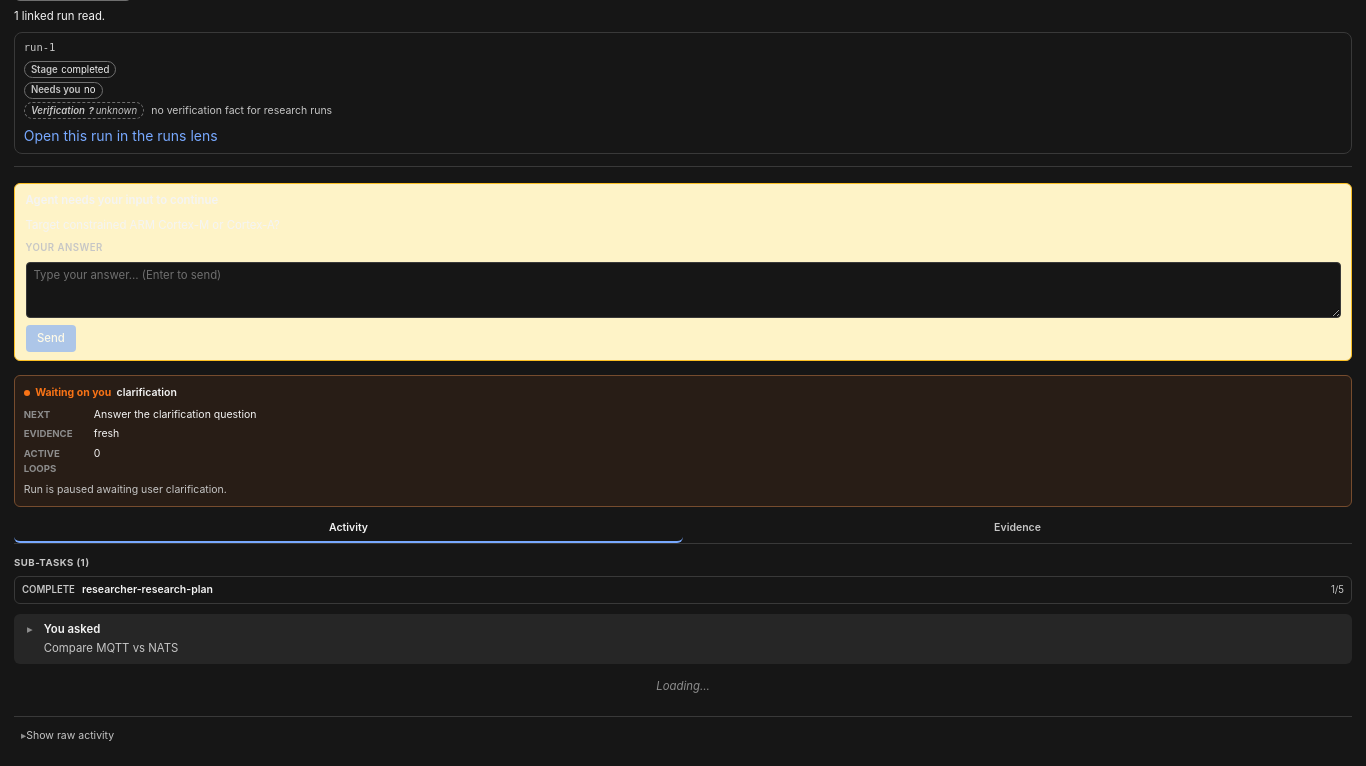
Test case: WorkItemOverview inline run workbench › surfaces live RunHealthPanel, RunWaitingSection, sub-tasks, and focus breadcrumb from taskStore
This screenshot has width=1366, height=766.
(page scrolled)
Check: the element with test id "run-health-panel" shows "Waiting on you", box [35,386,111,399]
Check: the text "Target constrained ARM Cortex-M or Cortex-A?" is shown, box [26,218,280,232]
Click the button with test id "work-inline-child-item". click: click(48, 589)
box: [14,576,1352,604]
(page scrolled)
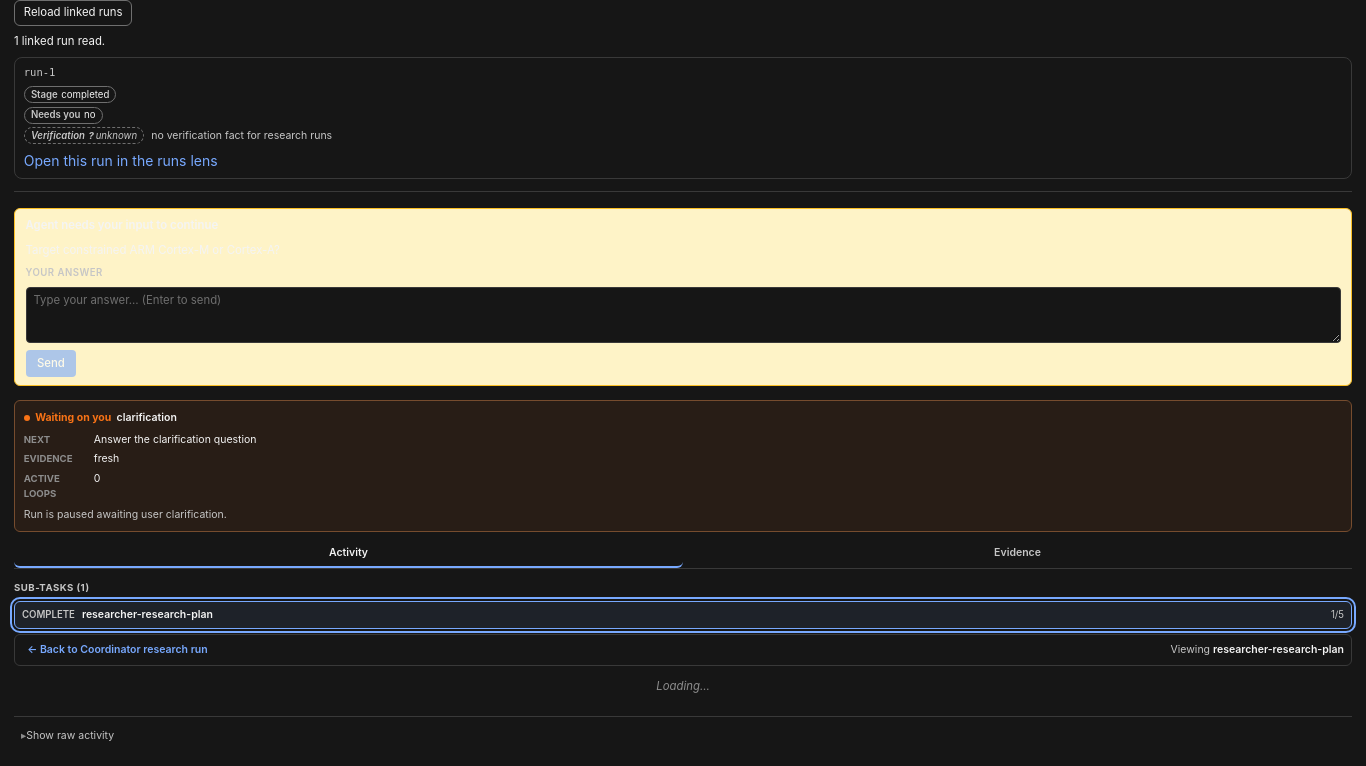
Check: the element with test id "work-inline-focus-breadcrumb" shows "researcher-research-plan", box [1213,643,1344,656]
Click the button with test id "work-inline-focus-back". click: click(117, 650)
box: [22,640,213,660]
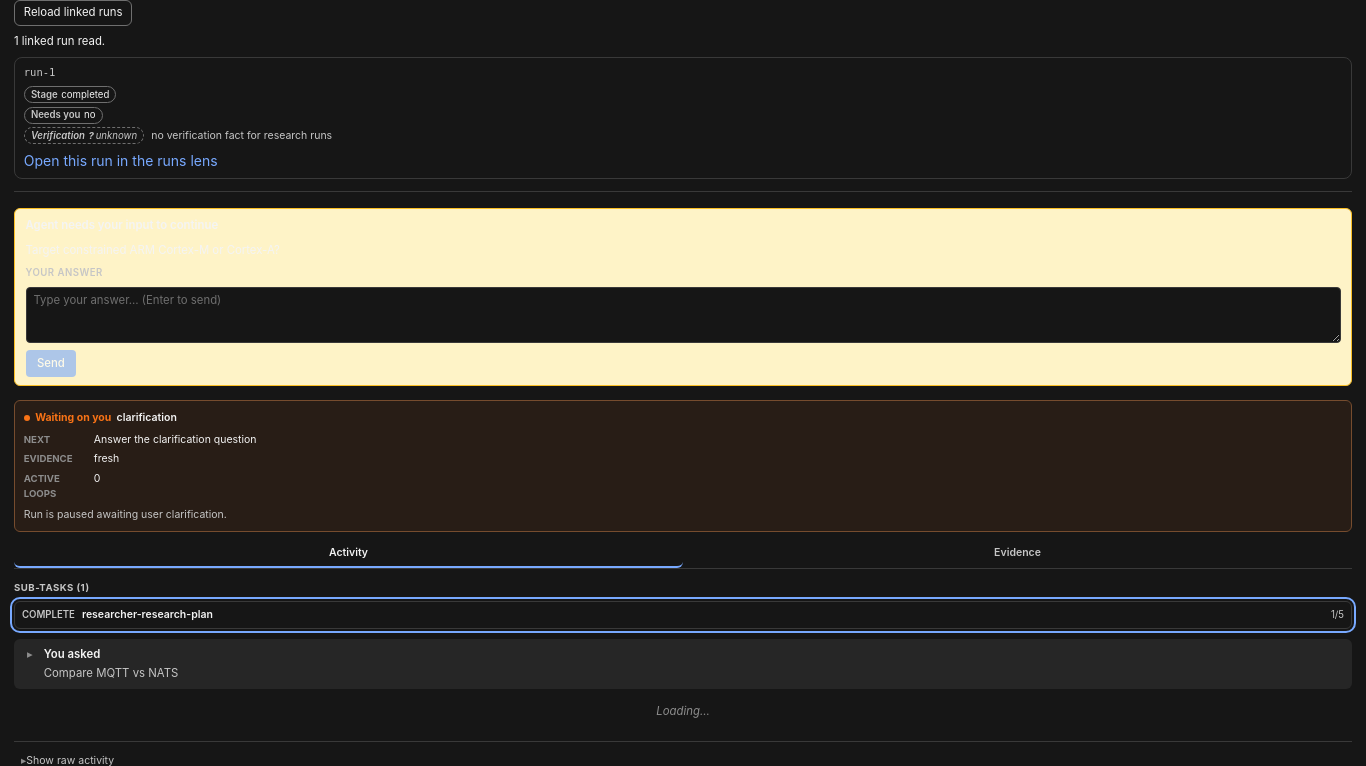
Check: the element with test id "work-inline-focus-breadcrumb" is gone
